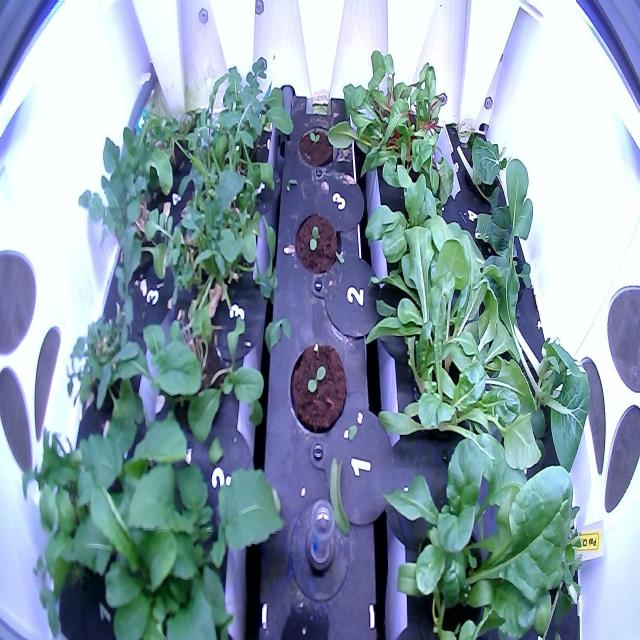germination: (286, 336, 351, 441), (292, 208, 344, 276), (294, 120, 339, 174)
